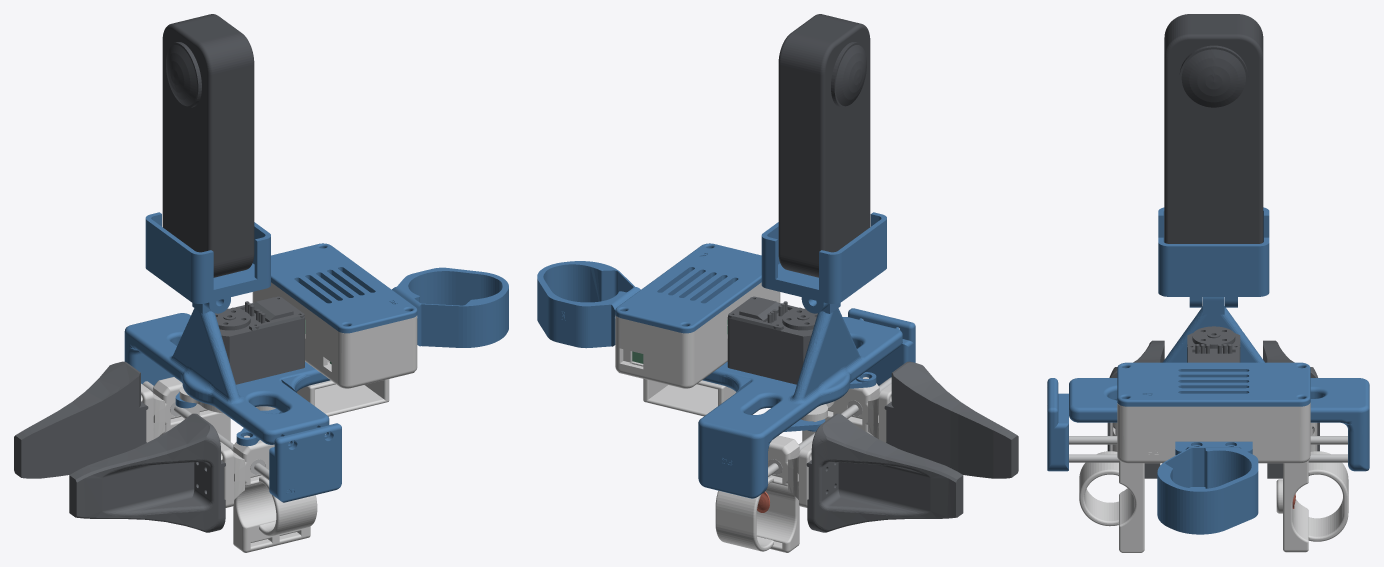
File: para-umi_right_agilex-piper.glb
The picture shows the model from 3 angles, left to right: view 1: azimuth 30°, elevation 25°; view 2: azimuth 150°, elevation 25°; view 3: azimuth 270°, elevation 25°; orthographic projection. The views are drawn at different scales.
Parts seen in each view (by area): view 1: insta360_x5, main_support, tip_thumb, electronics_lid, tip_index_1, controller_support, electronics_box, thumb_link, x5_wrist_mount, servo_sts3215, main_support_cover_plate, index_link (+2 smaller); view 2: insta360_x5, main_support, tip_index, electronics_lid, tip_thumb_1, controller_support, electronics_box, index_link, x5_wrist_mount, servo_sts3215, hand_support_base, thumb_link (+2 smaller); view 3: insta360_x5, electronics_box, electronics_lid, controller_support, main_support, x5_wrist_mount, index_link, thumb_link, main_support_cover_plate, servo_sts3215, rod_-8, rod_-28 (+2 smaller).
Part boxes in pixels (x1,y1,x2,y2): insta360_x5: (162, 14, 254, 277); main_support: (124, 303, 330, 444); tip_thumb: (71, 414, 225, 532); electronics_lid: (271, 243, 417, 333); tip_index_1: (19, 372, 148, 478); controller_support: (392, 267, 508, 347); electronics_box: (252, 282, 417, 388); thumb_link: (220, 435, 317, 552); x5_wrist_mount: (145, 212, 270, 313); servo_sts3215: (215, 296, 304, 384); main_support_cover_plate: (269, 423, 341, 502); index_link: (141, 377, 230, 442); insta360_x5: (778, 14, 870, 277); main_support: (698, 302, 902, 498); tip_index: (806, 414, 961, 532); electronics_lid: (615, 243, 761, 333); tip_thumb_1: (884, 372, 1013, 478); controller_support: (537, 261, 640, 348); electronics_box: (615, 282, 780, 388); index_link: (715, 435, 812, 552); x5_wrist_mount: (761, 212, 886, 313); servo_sts3215: (727, 296, 817, 384); hand_support_base: (618, 372, 736, 416); thumb_link: (802, 377, 891, 442); insta360_x5: (1164, 14, 1263, 243); electronics_box: (1117, 402, 1310, 463); electronics_lid: (1117, 362, 1310, 406); controller_support: (1157, 441, 1258, 534); main_support: (1069, 297, 1369, 471); x5_wrist_mount: (1158, 207, 1269, 307); index_link: (1276, 422, 1348, 552); thumb_link: (1079, 422, 1144, 552); main_support_cover_plate: (1047, 378, 1068, 471); servo_sts3215: (1187, 326, 1240, 362); rod_-8: (1069, 454, 1347, 462); rod_-28: (1069, 436, 1347, 444).
Size of the model in its own units: 0.249 by 0.2575 by 0.15.
